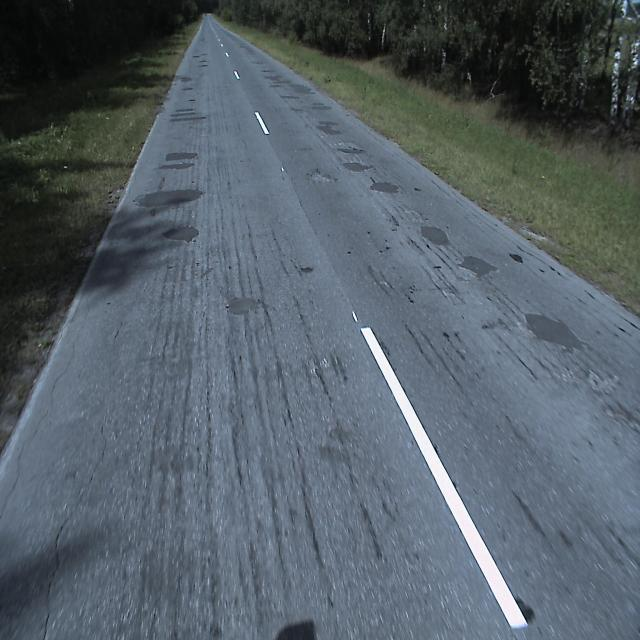road: (0, 14, 640, 639)
